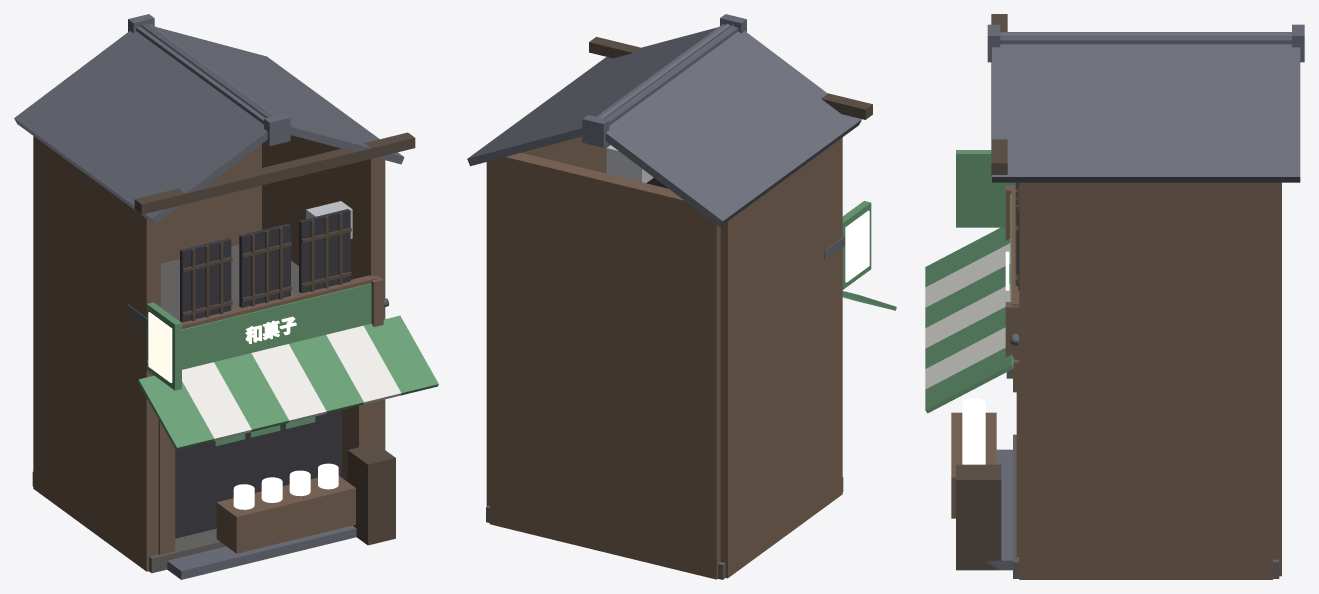
The model's file is prop_shop_wagashi.glb.
The picture shows the model from 3 angles, left to right: view 1: azimuth 30°, elevation 25°; view 2: azimuth 150°, elevation 25°; view 3: azimuth 270°, elevation 25°; orthographic projection. The views are drawn at different scales.
Visible parts, largest first — view 1: shop_wagashi; view 2: shop_wagashi; view 3: shop_wagashi.
Boxes of the visible parts, x1=… form: shop_wagashi: x1=14, y1=14, x2=438, y2=579; shop_wagashi: x1=467, y1=14, x2=896, y2=579; shop_wagashi: x1=925, y1=14, x2=1304, y2=579.
Size of the model in its own units: 3.9 by 5.9 by 4.19.
